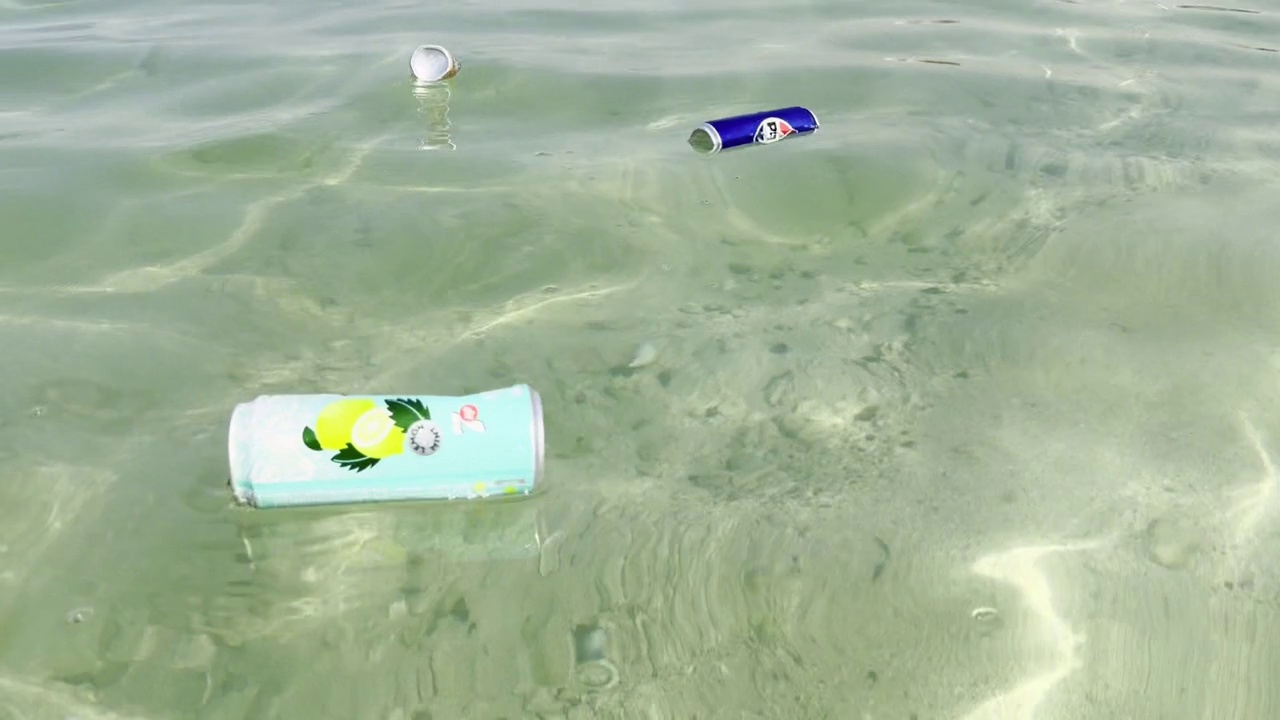debris: (212, 379, 553, 526), (683, 103, 825, 159), (402, 40, 471, 85)
